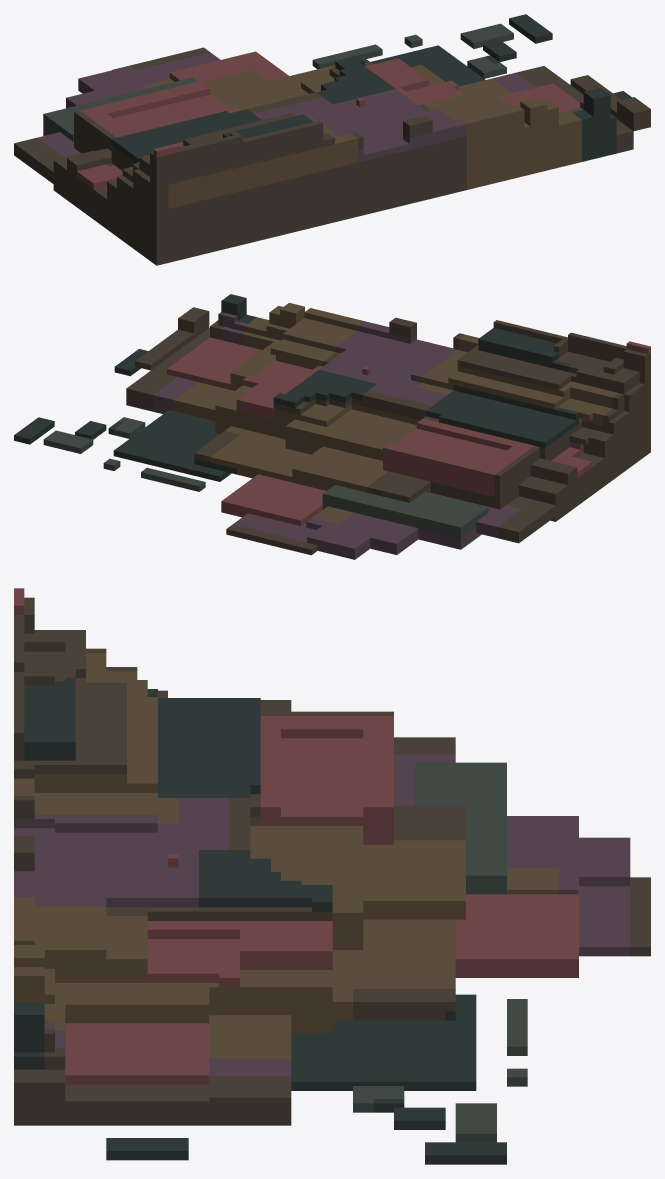
The model's file is Rubble Siding-2.obj.
3 views of the same model, one above another, from view 1: azimuth 30°, elevation 25°; view 2: azimuth 150°, elevation 25°; view 3: azimuth 270°, elevation 25° (orthographic). The views are drawn at different scales.
Visible parts, largest first — view 1: Rubble Siding-2; view 2: Rubble Siding-2; view 3: Rubble Siding-2.
Part boxes in pixels (x1=…): Rubble Siding-2: x1=14, y1=14, x2=650, y2=265; Rubble Siding-2: x1=14, y1=294, x2=650, y2=559; Rubble Siding-2: x1=14, y1=588, x2=650, y2=1164.
Bounding box in the file's own units: 92 × 19 × 62.
Materials: 1 (1 with a texture image).
